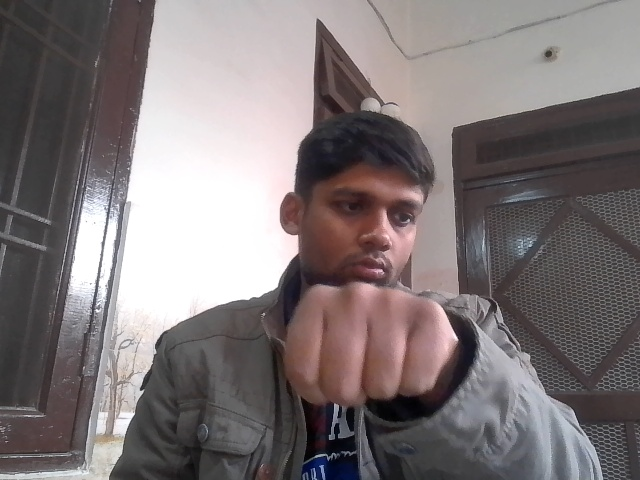Yes: (278, 273, 469, 414)
